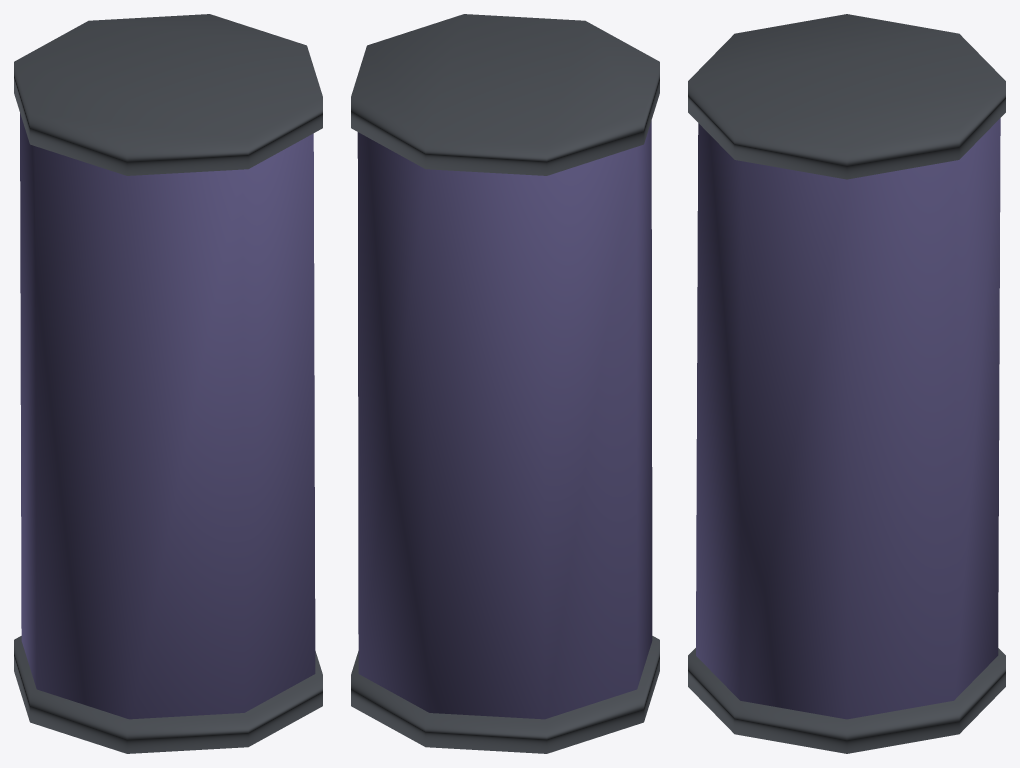
Rendered from MainGene_Blue.fbx.
3 renders of one model, left to right at view 1: azimuth 30°, elevation 25°; view 2: azimuth 150°, elevation 25°; view 3: azimuth 270°, elevation 25°, orthographic.
Visible parts, largest first — view 1: pCylinder1, pCylinder2, pCylinder3; view 2: pCylinder1, pCylinder2, pCylinder3; view 3: pCylinder1, pCylinder2, pCylinder3.
Boxes of the visible parts, x1=… form: pCylinder1: x1=20, y1=113, x2=315, y2=719; pCylinder2: x1=14, y1=14, x2=322, y2=175; pCylinder3: x1=14, y1=636, x2=322, y2=753; pCylinder1: x1=357, y1=120, x2=652, y2=719; pCylinder2: x1=351, y1=14, x2=659, y2=175; pCylinder3: x1=351, y1=636, x2=659, y2=753; pCylinder1: x1=696, y1=118, x2=1000, y2=719; pCylinder2: x1=688, y1=14, x2=1005, y2=179; pCylinder3: x1=688, y1=648, x2=1005, y2=753.
Size of the model in its own units: 1.16 by 2.44 by 1.16.
